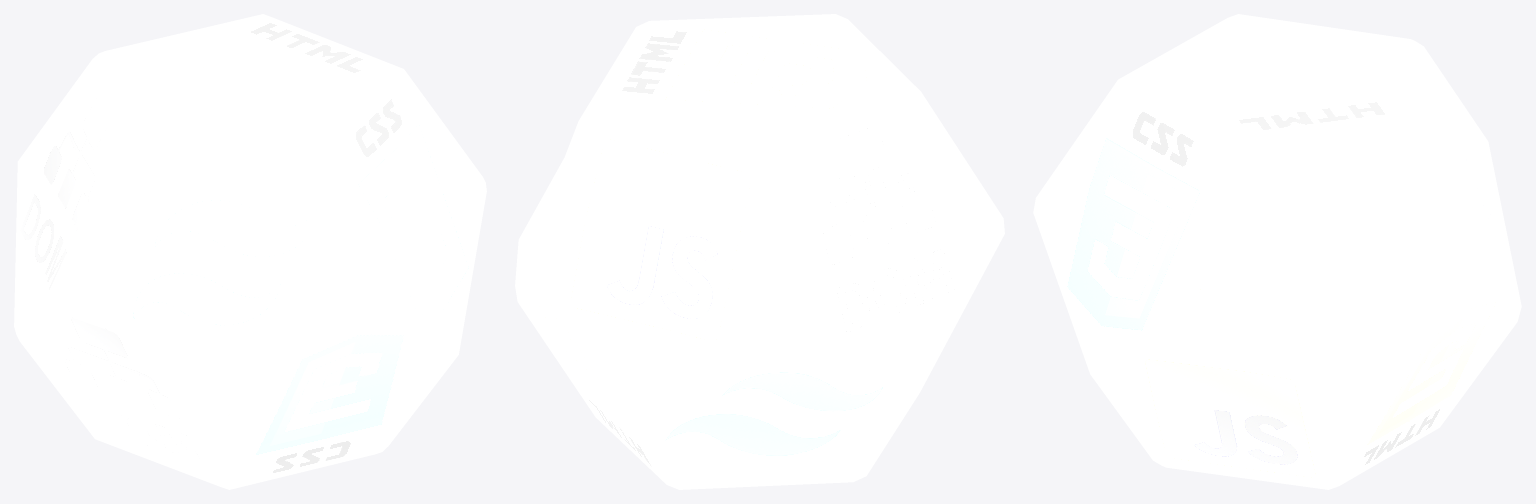
Rendered from 3dModel.glb.
The picture shows the model from 3 angles, left to right: view 1: azimuth 30°, elevation 25°; view 2: azimuth 150°, elevation 25°; view 3: azimuth 270°, elevation 25°; orthographic projection. The views are drawn at different scales.
Visible parts, largest first — view 1: Cylinder; view 2: Cylinder; view 3: Cylinder.
Part boxes in pixels (box(x1,y1,x2,y2)): Cylinder: box(14, 14, 486, 489); Cylinder: box(515, 14, 1004, 489); Cylinder: box(1033, 14, 1521, 489).
Bounding box in the file's own units: 2.66 × 2.18 × 2.72.
1 material, 1 textured.
